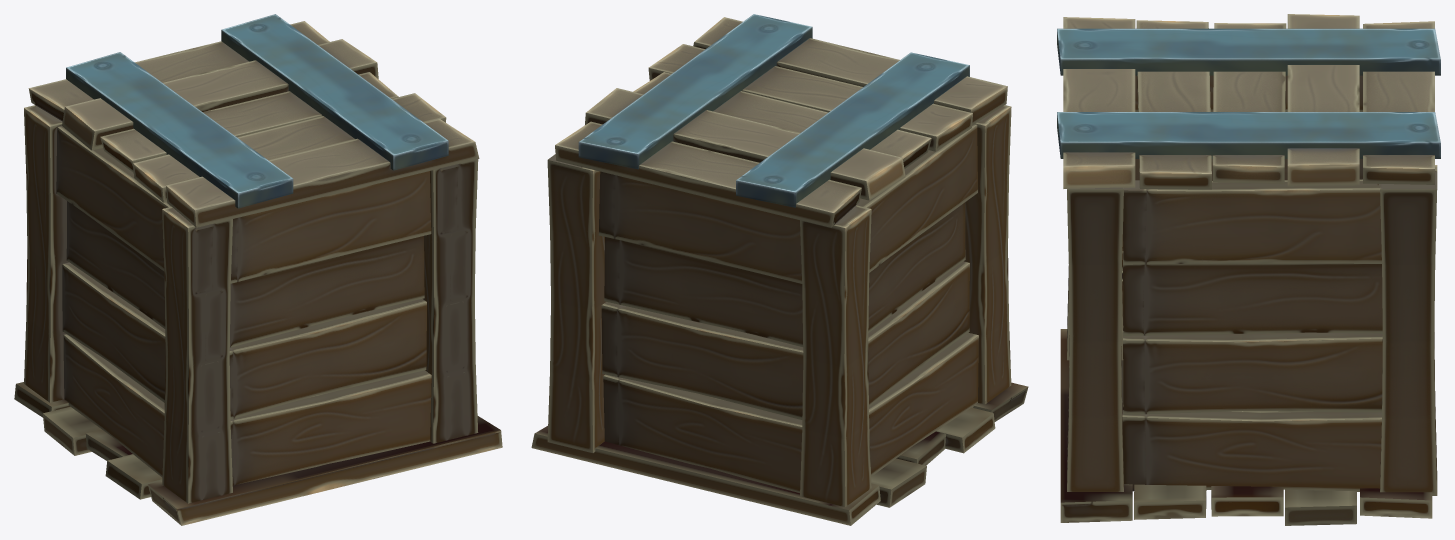
Rendered from SM_Crate_01.fbx.
The picture shows the model from 3 angles, left to right: view 1: azimuth 30°, elevation 25°; view 2: azimuth 150°, elevation 25°; view 3: azimuth 270°, elevation 25°; orthographic projection. The views are drawn at different scales.
Visible parts, largest first — view 1: SM_Crate_01_LOD0; view 2: SM_Crate_01_LOD0; view 3: SM_Crate_01_LOD0.
Boxes of the visible parts, <box> form: SM_Crate_01_LOD0: <box>14,14,502,525</box>; SM_Crate_01_LOD0: <box>531,14,1028,525</box>; SM_Crate_01_LOD0: <box>1057,14,1440,525</box>.
Bounding box in the file's own units: 75.01 × 68.62 × 70.2.
Materials: 1 (1 with a texture image).
